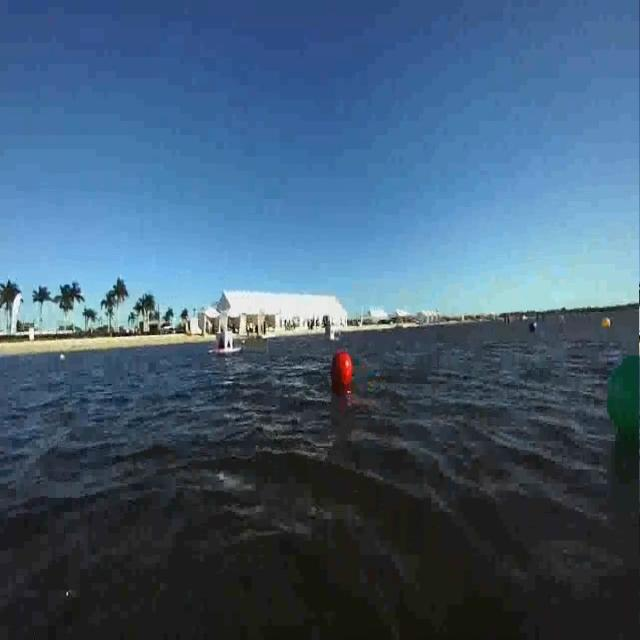blue-buoy: (530, 319, 540, 334)
green-buoy: (605, 352, 640, 443)
red-buoy: (332, 352, 353, 388)
yellow-buoy: (602, 317, 611, 329)
